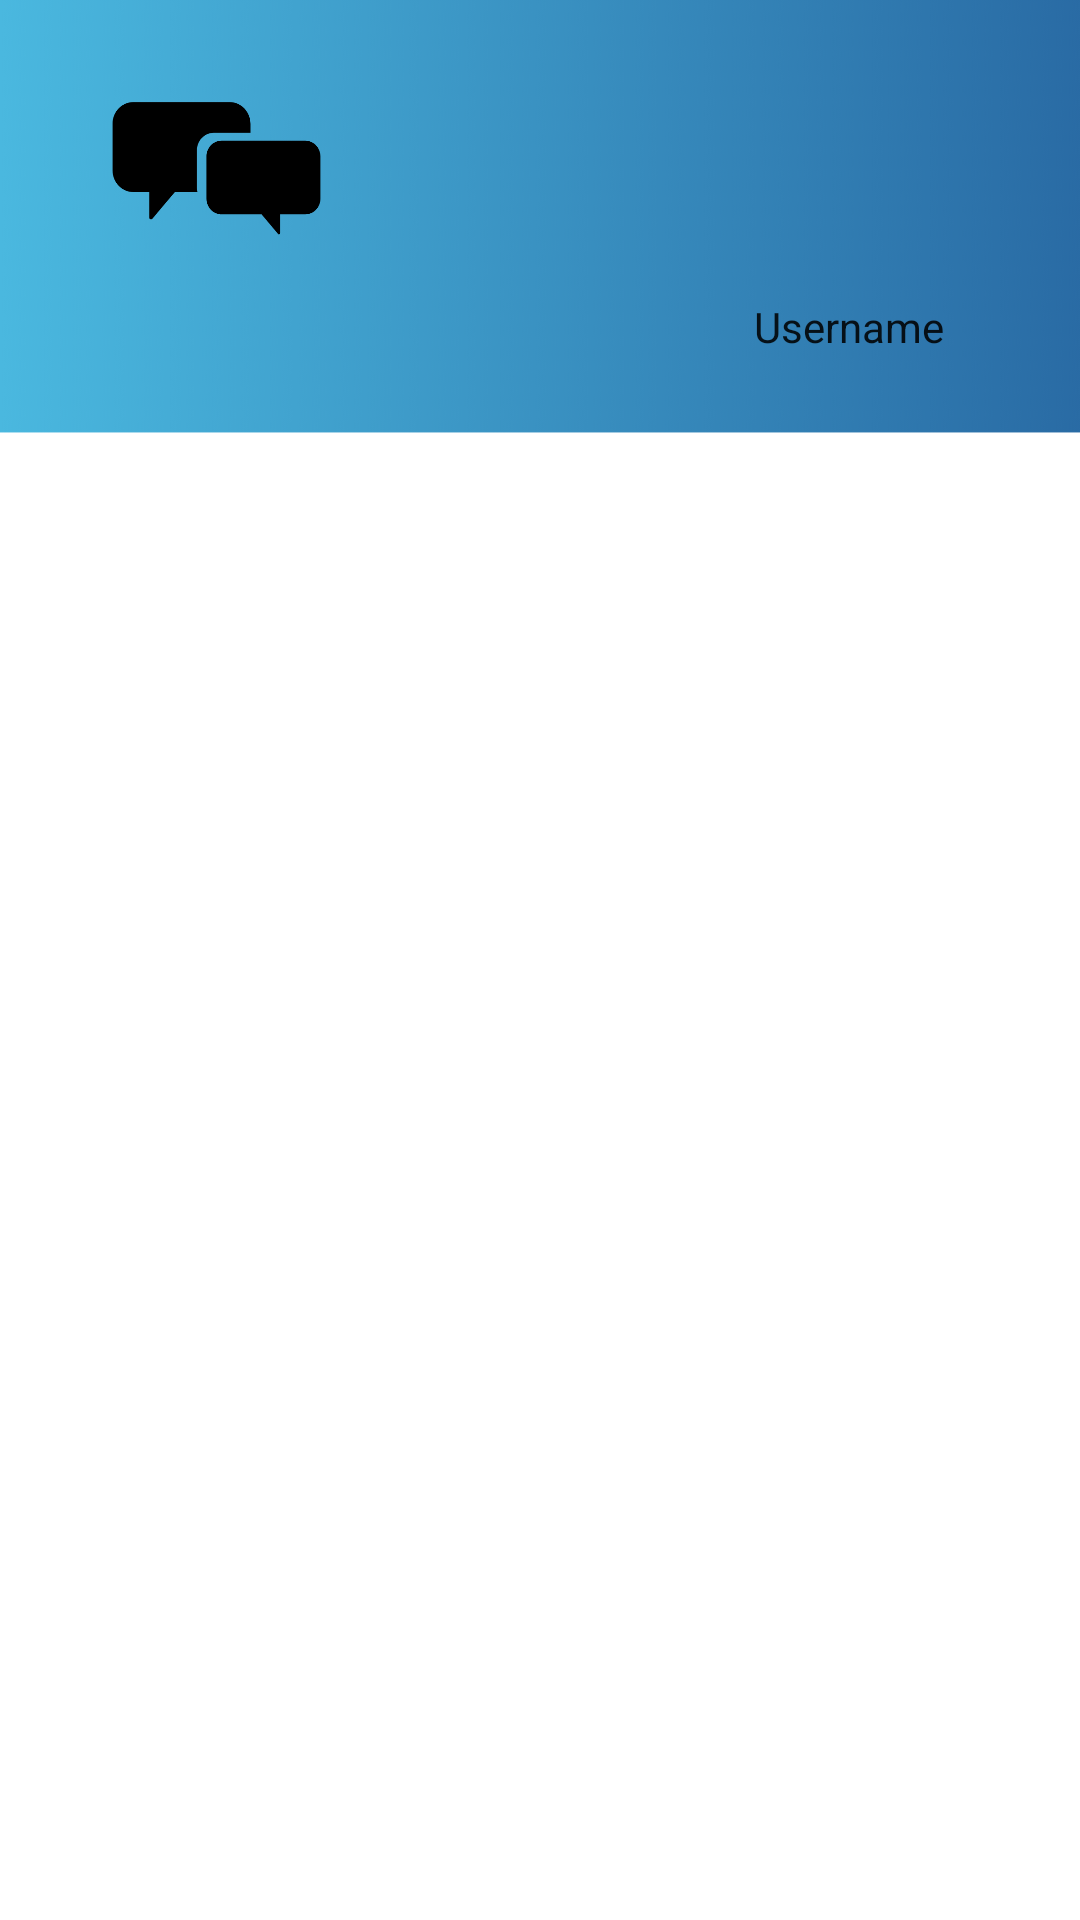

Icons on this 1080px x 1920px Android screen, each with the point to tap as point (x, y):
chat: point (216, 168)
